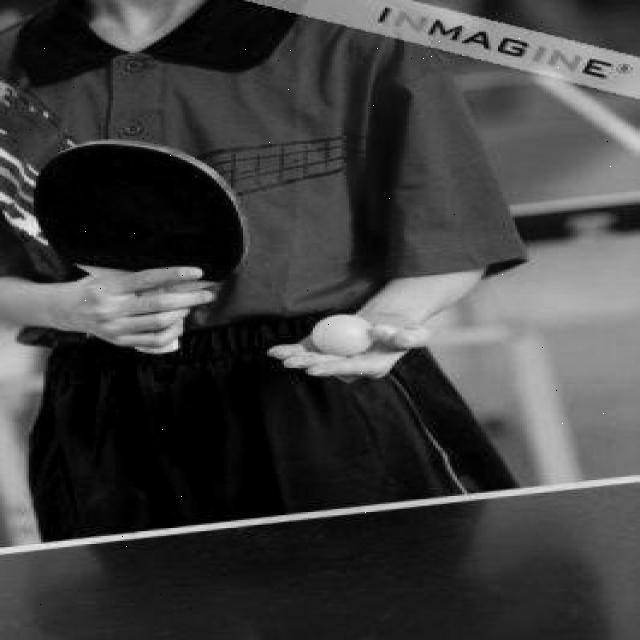ping-pong-ball: (310, 314, 382, 358)
